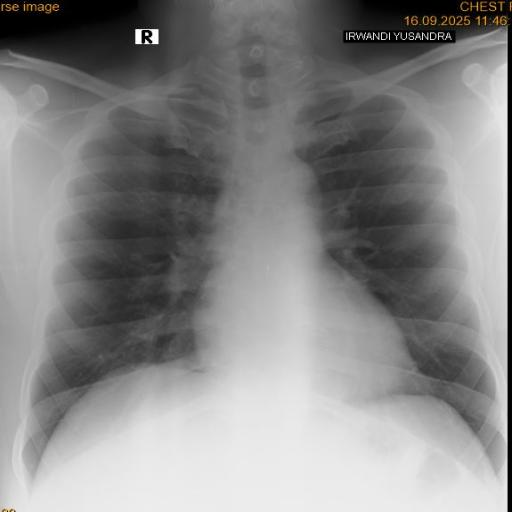kardiomegali: (16, 44, 507, 500)
